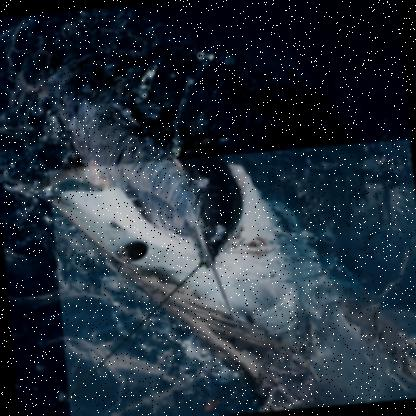mako-shark: (48, 138, 415, 415)
